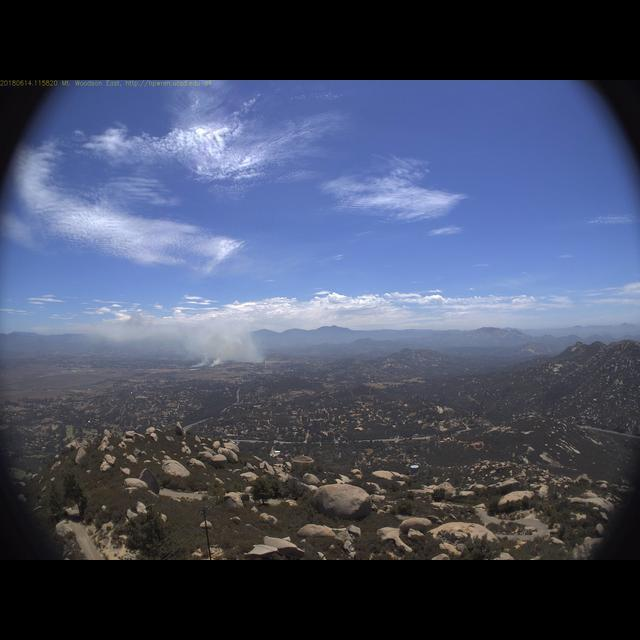Smoke: (98, 304, 266, 371)
